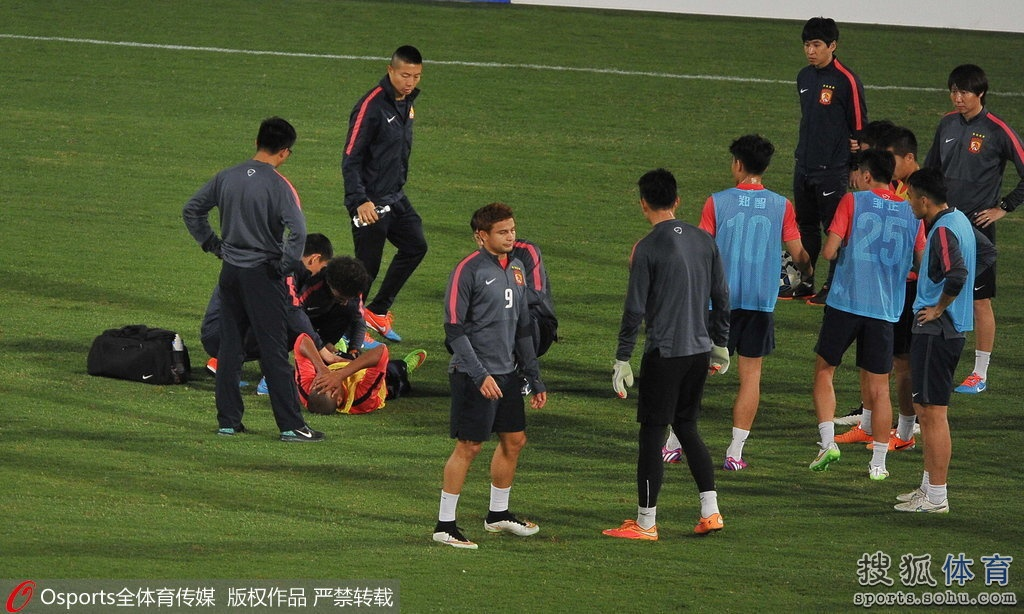falling: (282, 329, 430, 423)
